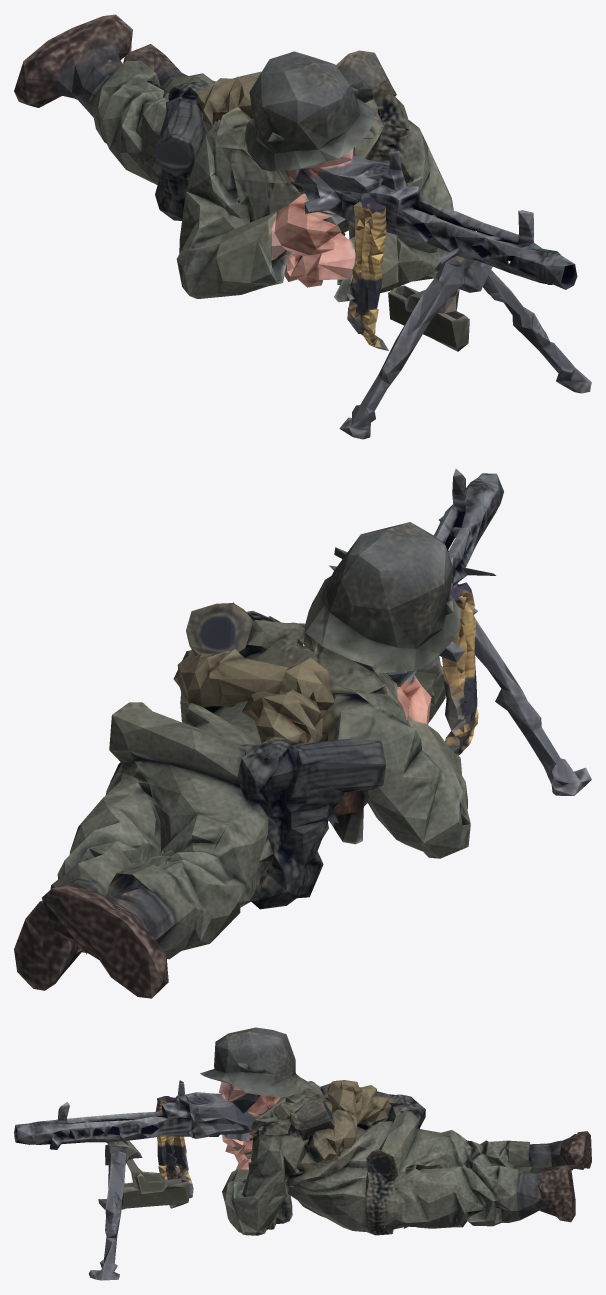
The model's file is inf_mg_prone.obj.
The picture shows the model from 3 angles, top to bottom: view 1: azimuth 30°, elevation 25°; view 2: azimuth 150°, elevation 25°; view 3: azimuth 270°, elevation 25°; orthographic projection. The views are drawn at different scales.
Visible parts, largest first — view 1: inf_mg_prone; view 2: inf_mg_prone; view 3: inf_mg_prone.
Boxes of the visible parts, bbox=[...] form: inf_mg_prone: bbox=[14, 14, 591, 439]; inf_mg_prone: bbox=[14, 468, 591, 998]; inf_mg_prone: bbox=[14, 1027, 591, 1280].
Bounding box in the file's own units: 0.7406 × 0.75 × 2.02.
Materials: 1 (1 with a texture image).
